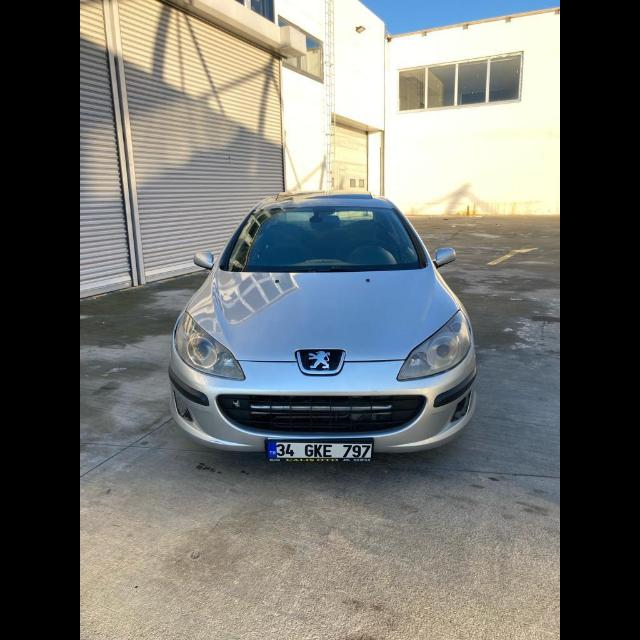Plaka: (266, 443, 372, 459)
